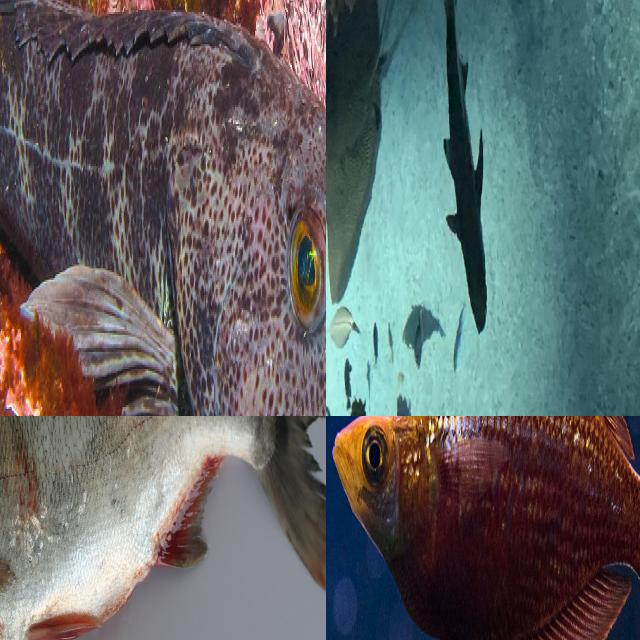fish: (0, 0, 326, 416), (0, 416, 326, 640), (426, 0, 497, 334), (339, 416, 481, 542)
